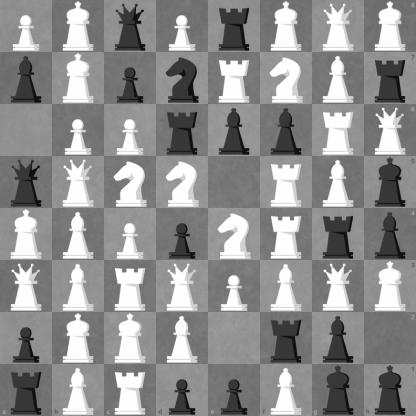B: (52, 364, 104, 416), (260, 364, 312, 416), (53, 209, 104, 260), (53, 261, 104, 312), (157, 313, 208, 364), (261, 261, 312, 312), (313, 53, 364, 104), (313, 157, 364, 208)
K: (364, 0, 416, 52), (364, 260, 416, 312), (1, 209, 52, 260), (53, 1, 104, 52), (53, 53, 104, 104), (53, 313, 104, 364), (105, 313, 156, 364), (261, 1, 312, 52)
N: (105, 157, 156, 208), (157, 157, 208, 208), (209, 209, 260, 260), (261, 53, 312, 104)
P: (1, 1, 52, 52), (53, 105, 104, 156), (105, 105, 156, 156), (105, 209, 156, 260), (157, 1, 208, 52), (209, 261, 260, 312)
Q: (364, 104, 416, 156), (1, 261, 52, 312), (53, 157, 104, 208), (157, 261, 208, 312), (313, 1, 364, 52), (313, 261, 364, 312)
R: (104, 364, 156, 416), (105, 261, 156, 312), (209, 53, 260, 104), (261, 157, 312, 208), (261, 209, 312, 260), (313, 105, 364, 156)
b: (364, 209, 416, 260), (1, 53, 52, 104), (209, 105, 260, 156), (261, 105, 312, 156), (313, 313, 364, 364)
board: (0, 0, 415, 415)
k: (364, 156, 416, 209), (312, 364, 364, 416), (364, 364, 416, 416)
n: (157, 53, 208, 104)
p: (156, 364, 209, 416), (209, 364, 260, 416), (1, 313, 52, 364), (105, 53, 156, 104), (157, 209, 208, 260)
q: (1, 157, 52, 208), (105, 1, 156, 52)
r: (0, 364, 52, 416), (364, 52, 416, 104), (157, 105, 208, 156), (209, 1, 260, 52), (261, 313, 312, 364), (313, 209, 364, 260)
